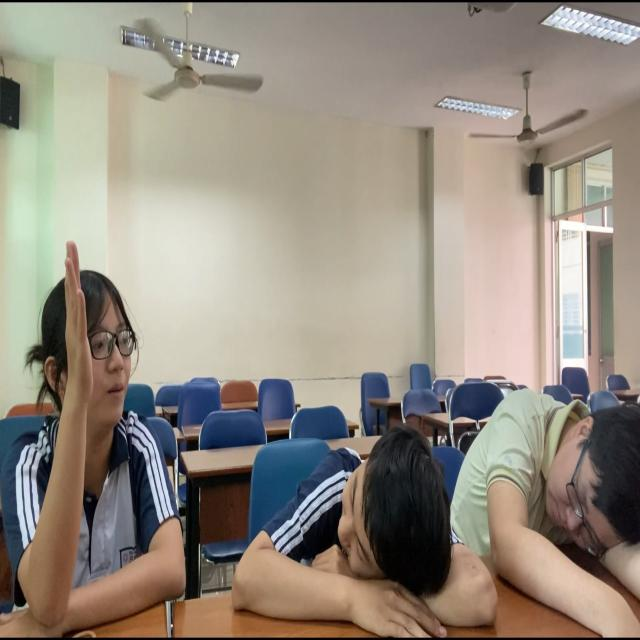raise_hand: (4, 240, 192, 632)
sleep: (242, 426, 493, 640), (458, 389, 640, 640)
